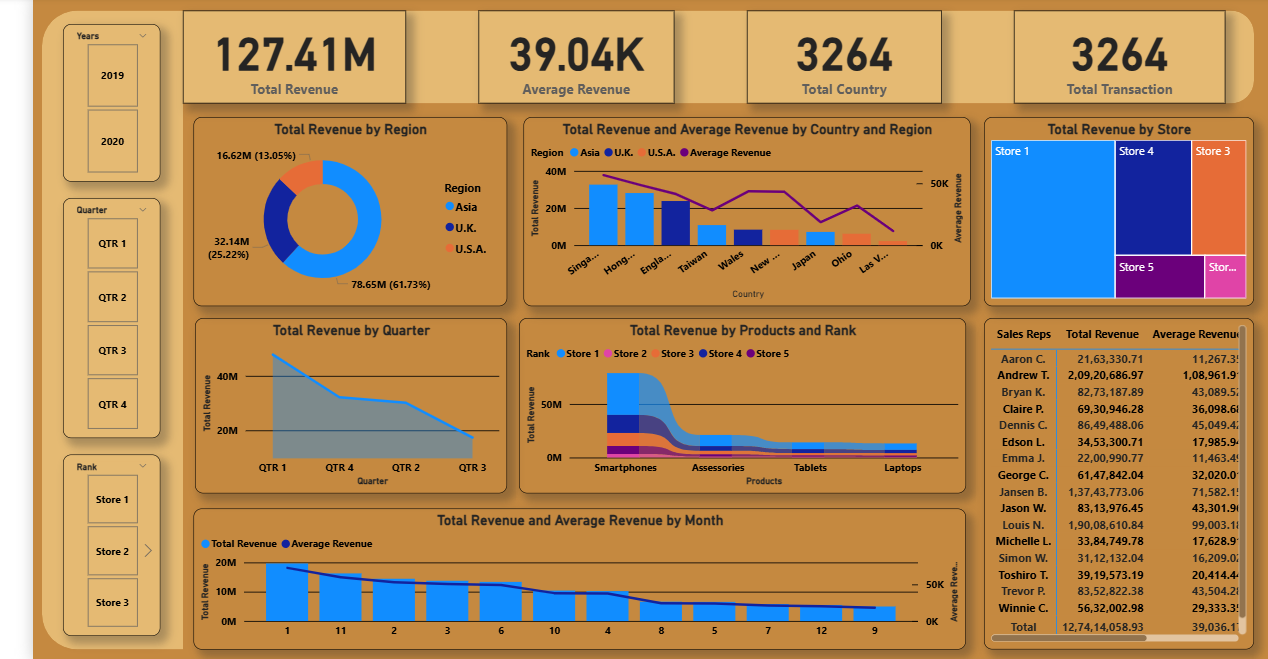

Layout of this report page (visuals, bound fields, positions):
{"tool":"powerbi","page":{"name":"Page 1","canvas":[1490,800],"ordinal":0},"visuals":[{"type":"shape","box":[10.8,16.3,169.9,769.9],"z":0},{"type":"shape","box":[180.7,16.3,1290.4,112.1],"z":1},{"type":"card","fields":{"Values":["Measures (2).Total Revenue"]},"box":[180.5,16.3,268.4,112.2],"z":2},{"type":"card","fields":{"Values":["Measures (2).Average Revenue"]},"box":[536.3,16.3,235.8,112.2],"z":3},{"type":"card","fields":{"Values":["Measures (2).Total Country"]},"box":[859.6,16.3,234.9,112.1],"z":4},{"type":"card","fields":{"Values":["Measures (2).Total Transaction"]},"box":[1182,16.3,254.8,112.1],"z":5},{"type":"donutChart","fields":{"Y":["Measures (2).Total Revenue"],"Category":["Sheet1.Region"]},"box":[193.4,144.6,377.7,227.7],"z":6},{"type":"lineStackedColumnComboChart","fields":{"Category":["Sheet1.Country"],"Y":["Measures (2).Total Revenue"],"Y2":["Measures (2).Average Revenue"],"Series":["Sheet1.Region"]},"box":[591,144.6,538.6,227.7],"z":7},{"type":"treemap","title":"Total Revenue by Store","fields":{"Values":["Measures (2).Total Revenue"],"Group":["Sheet1.Rank"]},"box":[1145.8,144.6,325.3,227.7],"z":8},{"type":"areaChart","fields":{"Y":["Measures (2).Total Revenue"],"Category":["Sheet1.Quarter"]},"box":[195.2,386.8,375.9,211.5],"z":9},{"type":"ribbonChart","fields":{"Category":["Sheet1.Products"],"Y":["Measures (2).Total Revenue"],"Series":["Sheet1.Rank"]},"box":[585.6,386.8,538.6,211.5],"z":10},{"type":"pivotTable","fields":{"Rows":["Sheet1.Sales Reps"],"Values":["Measures (2).Total Revenue","Measures (2).Average Revenue","Measures (2).Total Transaction"]},"box":[1145.8,386.8,325.3,399.4],"z":11},{"type":"lineStackedColumnComboChart","fields":{"Y":["Measures (2).Total Revenue"],"Y2":["Measures (2).Average Revenue"],"Category":["Sheet1.Month"]},"box":[193.4,616.3,930.7,169.9],"z":12},{"type":"slicer","fields":{"Values":["Sheet1.Years"]},"box":[36.1,32.5,117.5,189.8],"z":13},{"type":"slicer","fields":{"Values":["Sheet1.Quarter"]},"box":[36.1,242.2,117.5,289.2],"z":14},{"type":"slicer","fields":{"Values":["Sheet1.Rank"]},"box":[36.1,551.2,117.5,218.7],"z":15}]}

Visuals, with their boxes on the page's 1490x800 design canvas (x1, y1, x2, y2). These are canvas units, not pixel positions in the 1268x659 screenshot, which may show the page scaled, cropped or inside an application window:
shape: box=[11, 16, 181, 786]
shape: box=[181, 16, 1471, 128]
card - Measures (2).Total Revenue: box=[180, 16, 449, 128]
card - Measures (2).Average Revenue: box=[536, 16, 772, 128]
card - Measures (2).Total Country: box=[860, 16, 1094, 128]
card - Measures (2).Total Transaction: box=[1182, 16, 1437, 128]
donutChart - Measures (2).Total Revenue x Sheet1.Region: box=[193, 145, 571, 372]
lineStackedColumnComboChart - Sheet1.Country x Measures (2).Total Revenue: box=[591, 145, 1130, 372]
"Total Revenue by Store" treemap: box=[1146, 145, 1471, 372]
areaChart - Measures (2).Total Revenue x Sheet1.Quarter: box=[195, 387, 571, 598]
ribbonChart - Sheet1.Products x Measures (2).Total Revenue: box=[586, 387, 1124, 598]
pivotTable - Sheet1.Sales Reps x Measures (2).Total Revenue: box=[1146, 387, 1471, 786]
lineStackedColumnComboChart - Measures (2).Total Revenue x Measures (2).Average Revenue: box=[193, 616, 1124, 786]
slicer - Sheet1.Years: box=[36, 32, 154, 222]
slicer - Sheet1.Quarter: box=[36, 242, 154, 531]
slicer - Sheet1.Rank: box=[36, 551, 154, 770]
